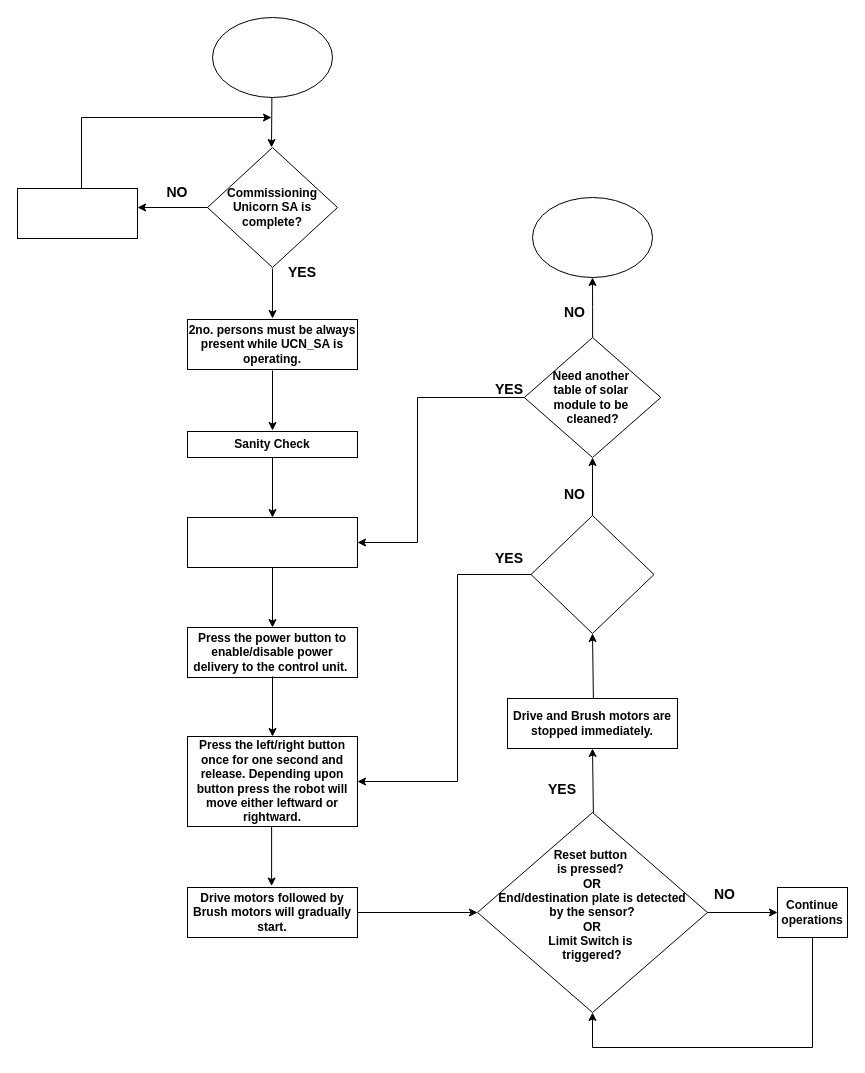
Image size: 865x1073. Some labels were removed from this diagram. The shapes that lost their labels are listed below. From the top down, each one's centre as x and y in pixels, then its label:
point 272,57: Start
point 77,213: Refer the commissioning manual.
point 592,237: Stop
point 272,542: 2no. persons must pick and place the UCN_SA on the solar module.
point 592,574: Need to continue cleaning?
